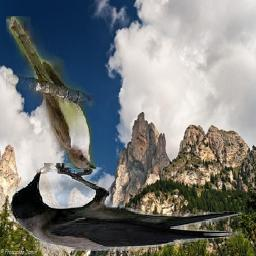Crow: (10, 163, 243, 251)
Cuckoo: (6, 17, 96, 170)
